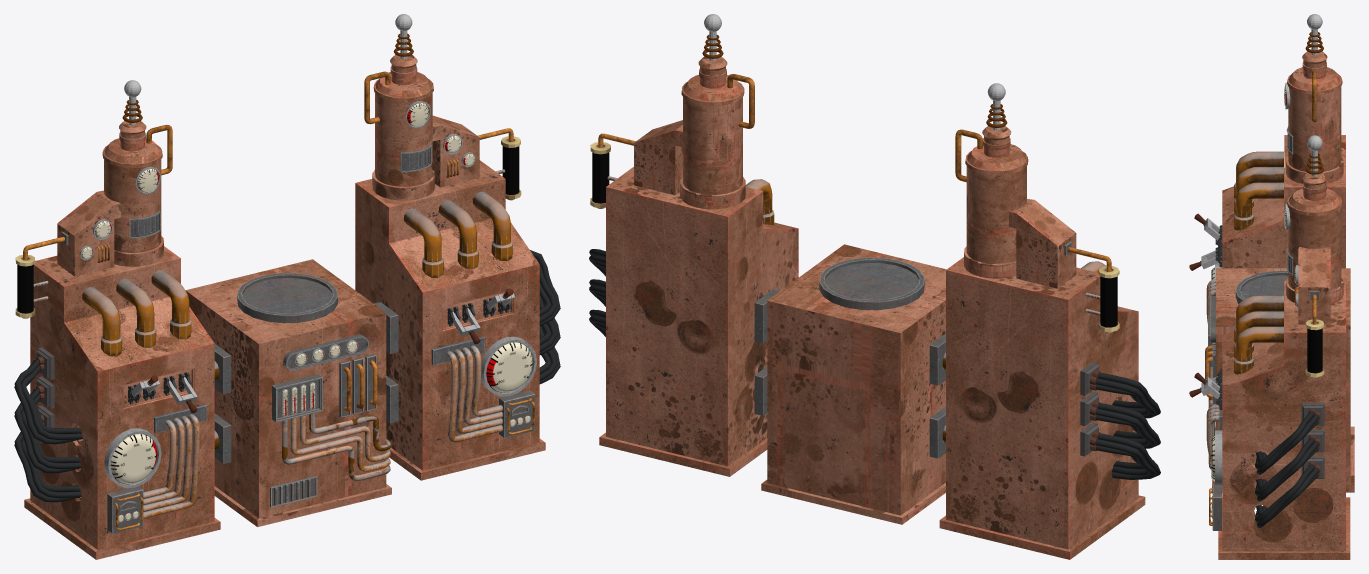
Rendered from UpgradeMachine.fbx.
3 renders of one model, left to right at view 1: azimuth 30°, elevation 25°; view 2: azimuth 150°, elevation 25°; view 3: azimuth 270°, elevation 25°, orthographic. The views are drawn at different scales.
Parts seen in each view (by area): view 1: MainBody (×2), CTBase, LtTopMachinePart (×2), MainTempGauge (×2), GunPlacement, Cables1 (×2), MainPipe1 (×2), MainPipe2 (×2), MainPipe3 (×2), Panel_Body (×2), Tube (×2), FrontPipe4 (×2) (+16 smaller); view 2: MainBody (×2), CTBase, LtTopMachinePart (×2), GunPlacement, Tube (×2), Cables3, Cables1, Cables2, JunctionBox4, JunctionBox3, JunctionBox2; view 3: MainBody (×2), LtTopMachinePart (×2), CTBase, MainPipe3 (×2), MainPipe1 (×2), MainPipe2 (×2), Cables1, Cables2, Cables3, GunPlacement, Tube, MainTempGauge (+5 smaller).
Part boxes in pixels (box(x1,y1,x2,y2)): MainBody (×2): box(24, 160, 545, 559); CTBase: box(185, 259, 391, 526); LtTopMachinePart (×2): box(57, 55, 479, 276); MainTempGauge (×2): box(104, 336, 536, 488); GunPlacement: box(237, 273, 337, 323); Cables1 (×2): box(14, 250, 560, 444); MainPipe1 (×2): box(82, 191, 512, 356); MainPipe2 (×2): box(116, 200, 478, 348); MainPipe3 (×2): box(151, 208, 443, 339); Panel_Body (×2): box(107, 390, 534, 533); Tube (×2): box(15, 136, 521, 318); FrontPipe4 (×2): box(143, 351, 503, 518); MainBody (×2): box(599, 167, 1145, 559); CTBase: box(761, 244, 946, 524); LtTopMachinePart (×2): box(634, 57, 1076, 288); GunPlacement: box(819, 257, 924, 310); Tube (×2): box(590, 142, 1119, 332); Cables3: box(1080, 422, 1160, 479); Cables1: box(1080, 361, 1160, 418); Cables2: box(1080, 392, 1160, 448); JunctionBox4: box(929, 333, 945, 385); JunctionBox3: box(929, 406, 945, 458); JunctionBox2: box(754, 289, 780, 343); MainBody (×2): box(1218, 135, 1350, 559); LtTopMachinePart (×2): box(1286, 51, 1343, 324); CTBase: box(1212, 268, 1354, 492); MainPipe3 (×2): box(1234, 182, 1283, 342); MainPipe1 (×2): box(1234, 151, 1283, 374); MainPipe2 (×2): box(1234, 167, 1283, 357); Cables1: box(1255, 403, 1324, 474); Cables2: box(1255, 429, 1324, 501); Cables3: box(1255, 456, 1324, 527); GunPlacement: box(1235, 270, 1288, 313); Tube: box(1305, 319, 1324, 377); MainTempGauge: box(1211, 430, 1222, 486).
Bounding box in the file's own units: 1498 × 1139 × 440.
